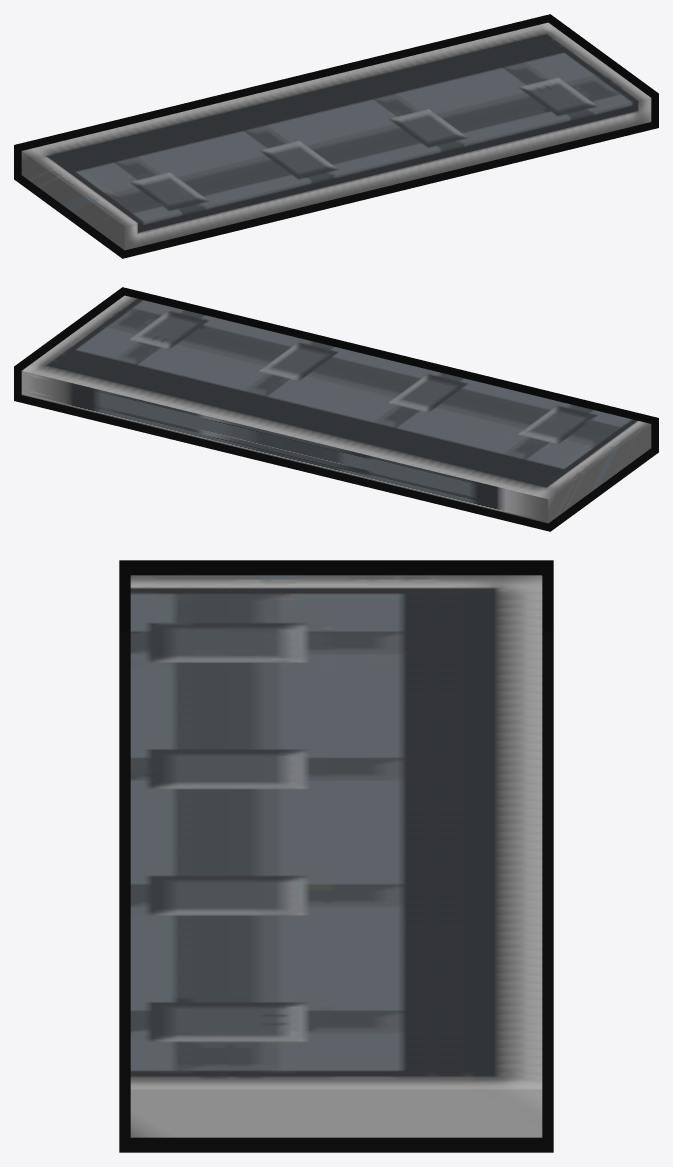
Rendered from Building_HydroponicsBasin_Things_Building_Production_HydroponicsBasin.glb.
The picture shows the model from 3 angles, top to bottom: view 1: azimuth 30°, elevation 25°; view 2: azimuth 150°, elevation 25°; view 3: azimuth 270°, elevation 25°; orthographic projection. The views are drawn at different scales.
Parts seen in each view (by area): view 1: Body, Outline; view 2: Body, Outline; view 3: Body, Outline.
Part boxes in pixels (x1,y1,x2,y2): Body: [21, 22, 651, 250]; Outline: [14, 14, 658, 258]; Body: [21, 295, 651, 523]; Outline: [14, 287, 658, 531]; Body: [130, 575, 542, 1137]; Outline: [119, 560, 553, 1152].
Bounding box in the file's own units: 1.97 × 0.121 × 0.6918.
2 materials, 1 textured.
